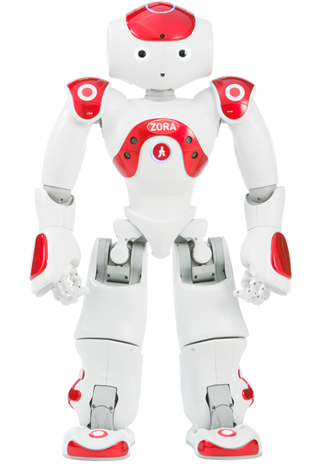nao: (19, 2, 305, 471)
